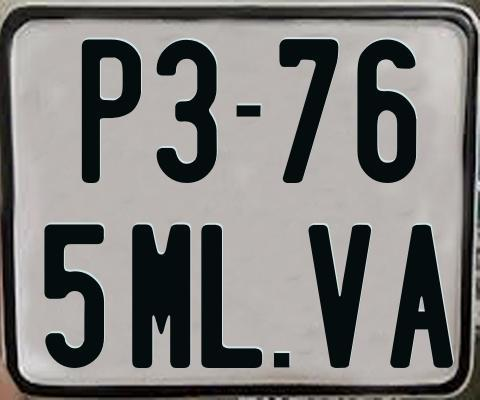3: (154, 40, 221, 186)
5: (41, 222, 105, 371)
6: (357, 37, 422, 182)
7: (276, 38, 338, 186)
A: (390, 225, 453, 370)
L: (198, 223, 261, 370)
M: (129, 222, 188, 372)
P: (79, 38, 140, 188)
V: (307, 222, 374, 367)
